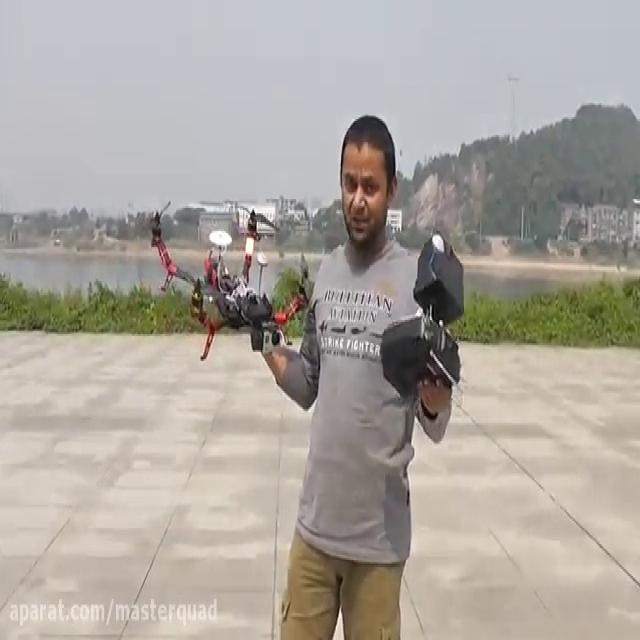drone: (137, 192, 316, 363)
